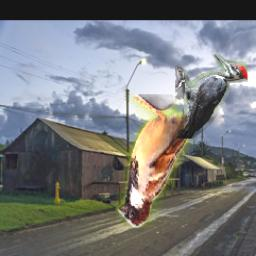Sparrow: (117, 95, 218, 229)
Woodpecker: (175, 54, 248, 139)
